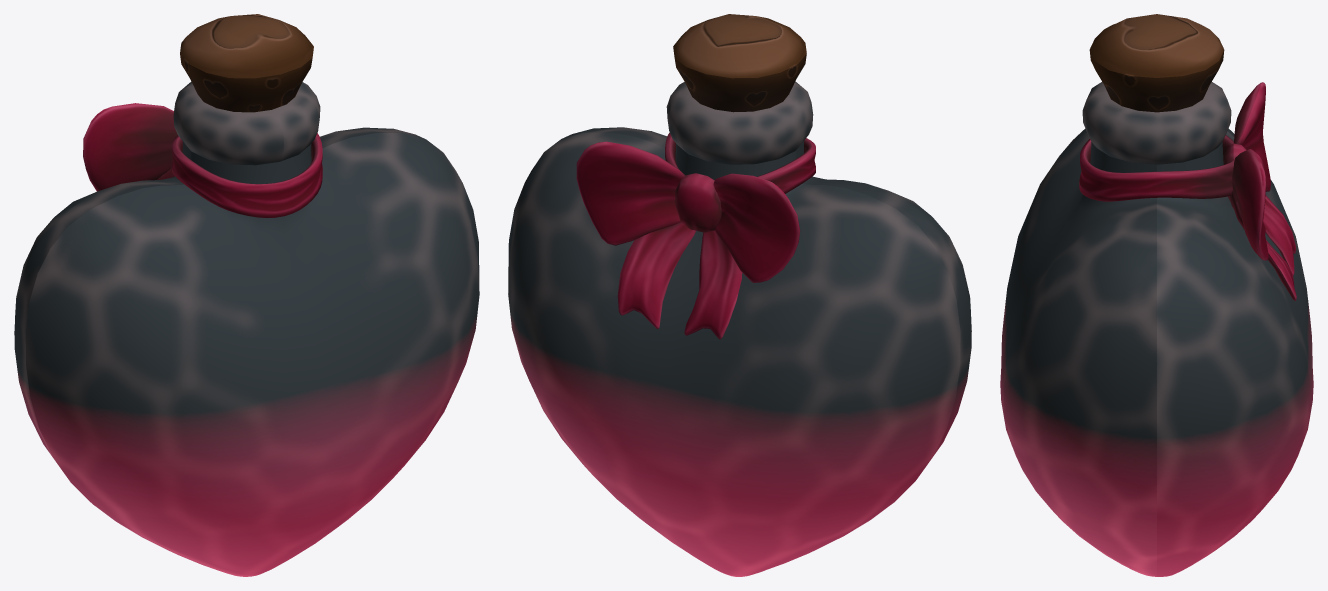
3 views of the same model, side by side, from view 1: azimuth 30°, elevation 25°; view 2: azimuth 150°, elevation 25°; view 3: azimuth 270°, elevation 25° (orthographic).
Visible parts, largest first — view 1: Potion; view 2: Potion; view 3: Potion.
Part boxes in pixels (box(x1,y1,x2,y2)): Potion: box(14, 14, 479, 576); Potion: box(508, 14, 971, 576); Potion: box(1000, 14, 1313, 576).
Bounding box in the file's own units: 1.55 × 1.83 × 0.9482.
Materials: 2 (2 with a texture image).
